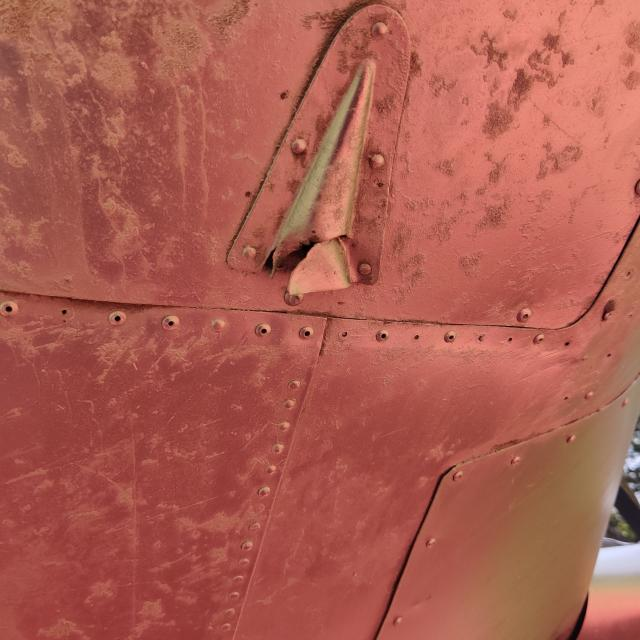crack: (239, 216, 371, 322)
